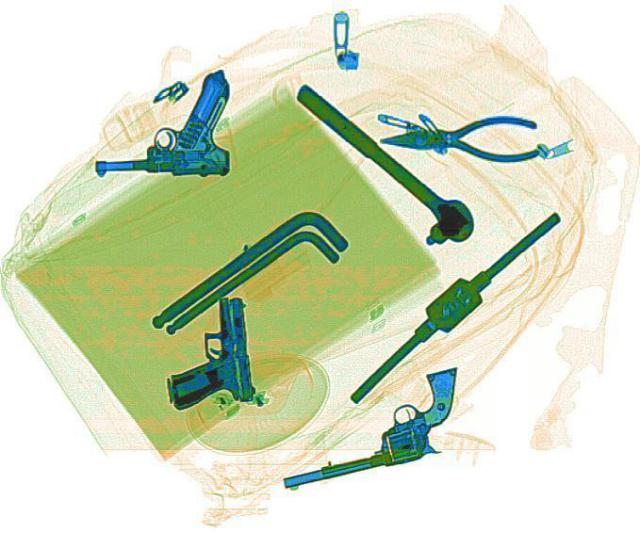Gun: (254, 364, 488, 489), (88, 67, 232, 176), (157, 292, 253, 410)
Pliers: (380, 113, 540, 162)
